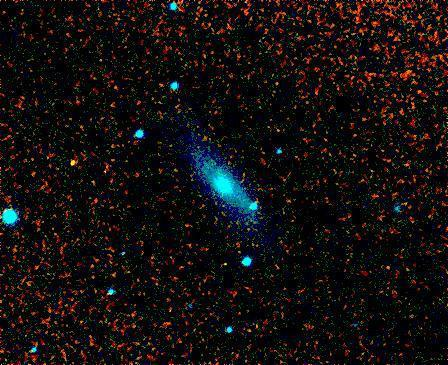star: (55, 146, 85, 176)
